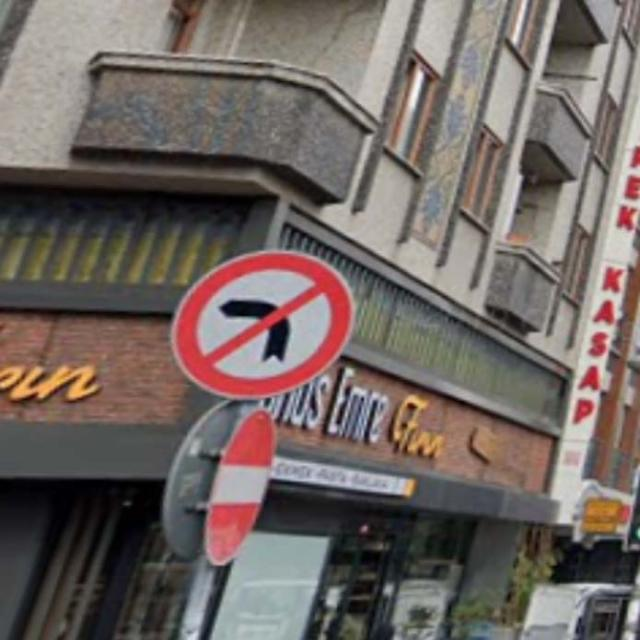girisyok: (209, 414, 264, 567)
soladonulmez: (182, 247, 353, 397)
